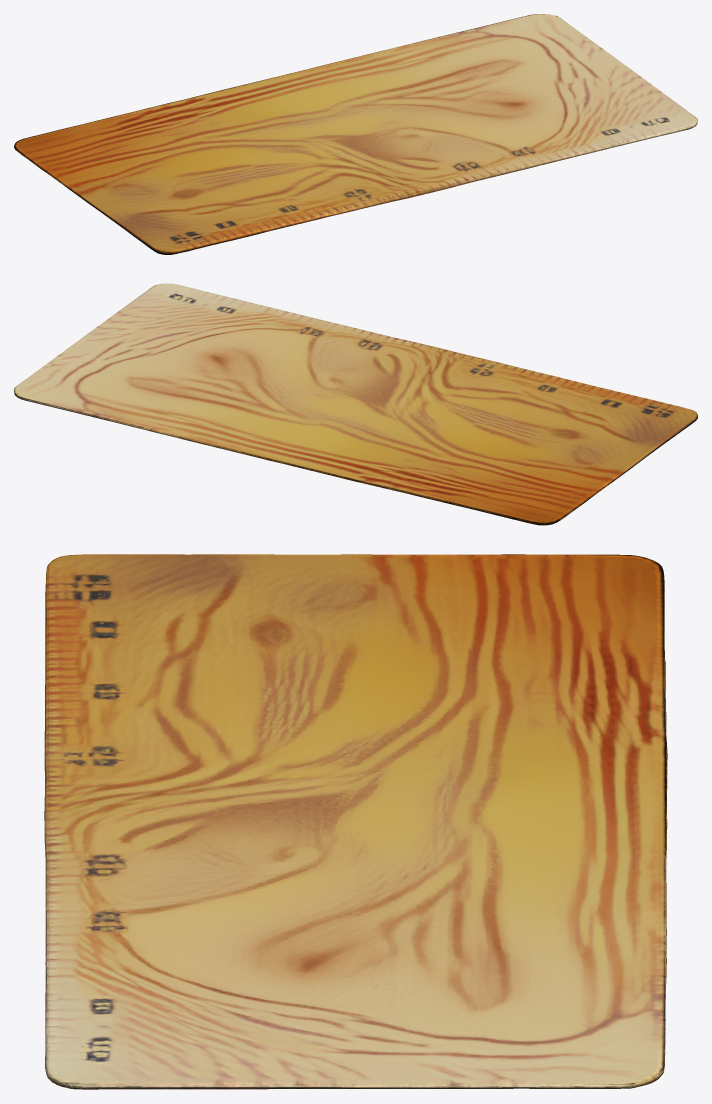
File: wooden-ruler-dune.jpeg.glb
3 renders of one model, top to bottom at view 1: azimuth 30°, elevation 25°; view 2: azimuth 150°, elevation 25°; view 3: azimuth 270°, elevation 25°, orthographic. The views are drawn at different scales.
Visible parts, largest first — view 1: world; view 2: world; view 3: world.
Boxes of the visible parts, x1,y1,x2,y2 form: world: (14, 14, 697, 254); world: (14, 283, 697, 525); world: (44, 554, 667, 1089).
Size of the model in its own units: 1 by 0.00724 by 0.4958.
1 material, 1 textured.
